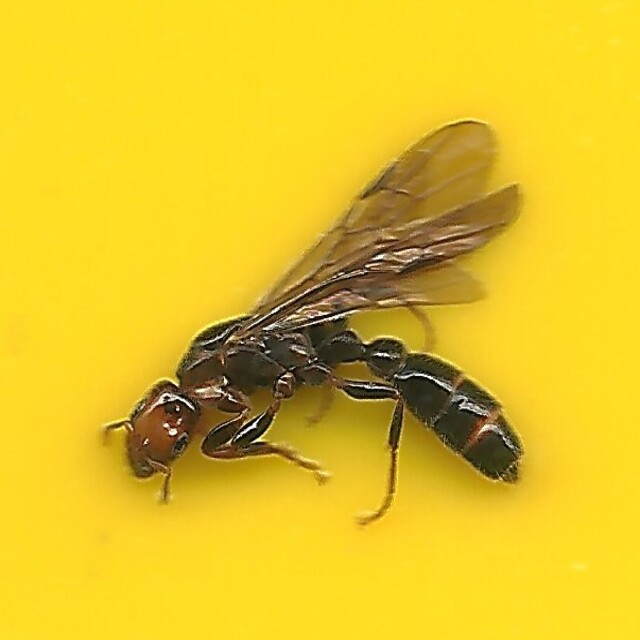Hymenoptera: (106, 115, 534, 525)
